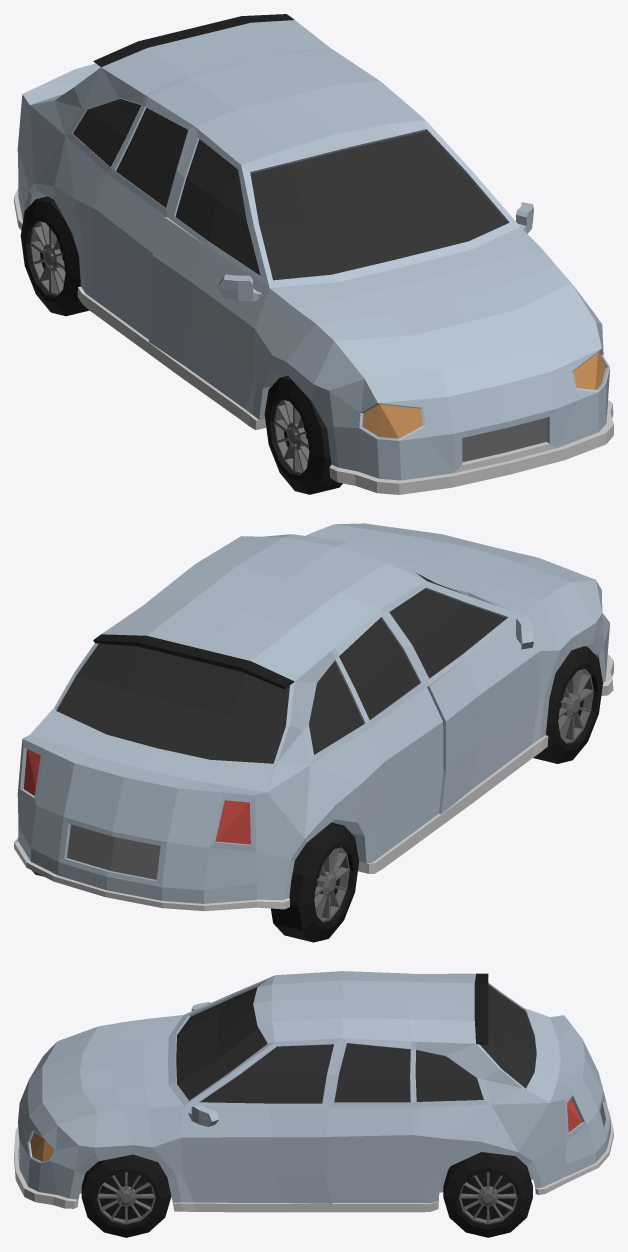
The model's file is compact-wagon.glb.
The picture shows the model from 3 angles, top to bottom: view 1: azimuth 30°, elevation 25°; view 2: azimuth 150°, elevation 25°; view 3: azimuth 270°, elevation 25°; orthographic projection. The views are drawn at different scales.
Parts seen in each view (by area): view 1: compact-wagon; view 2: compact-wagon; view 3: compact-wagon.
Part boxes in pixels (left/top/right/bottom): compact-wagon: left=14, top=14, right=613, bottom=494; compact-wagon: left=14, top=523, right=613, bottom=942; compact-wagon: left=14, top=971, right=613, bottom=1237.
Size of the model in its own units: 1.85 by 1.42 by 4.1.
